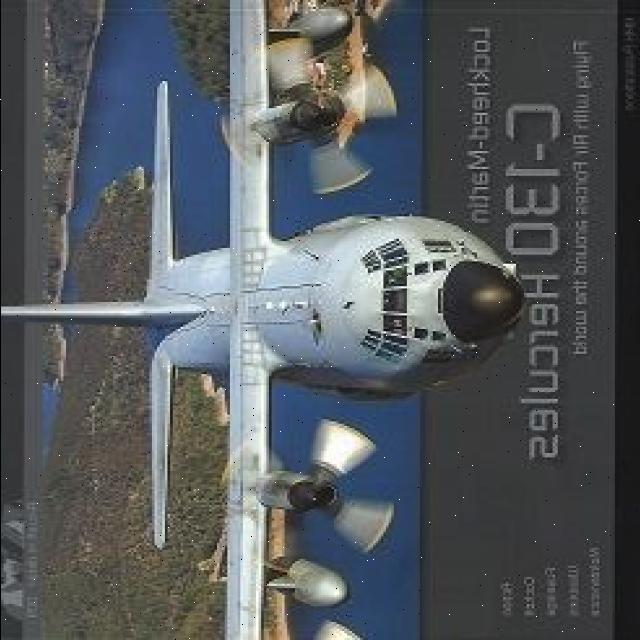C130: (2, 0, 544, 640)
